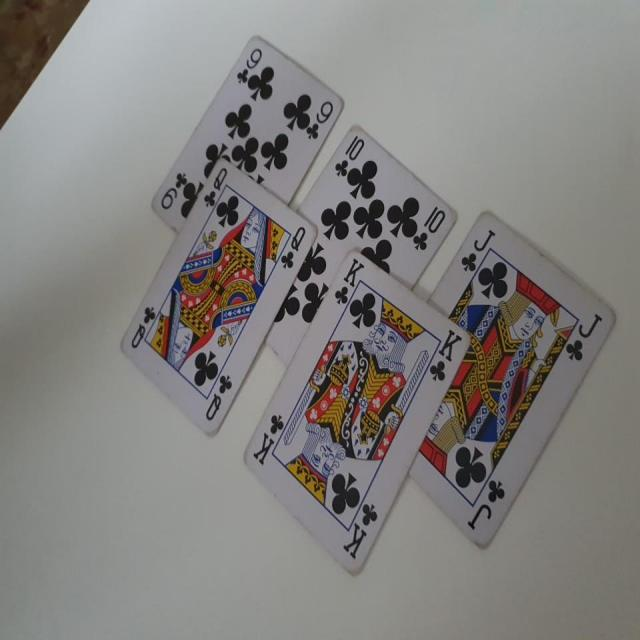10 Trefoils: (260, 121, 457, 374)
9 Trefoils: (150, 30, 347, 233)
J Trefoils: (406, 213, 616, 551)
K Trefoils: (241, 250, 473, 576)
Q Trefoils: (116, 156, 316, 440)
